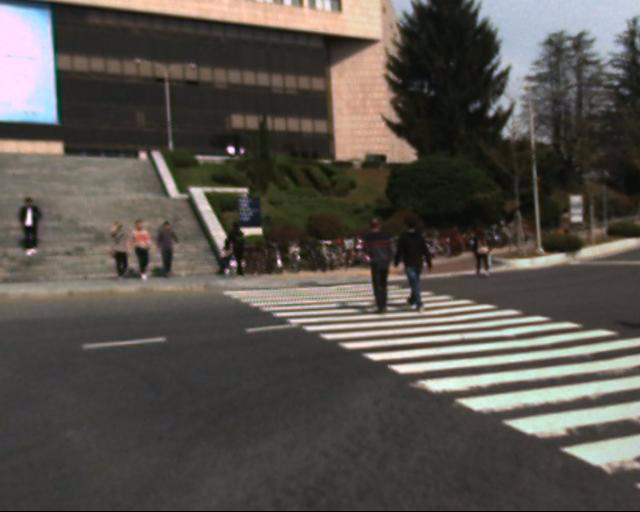person: (353, 212, 408, 316), (9, 189, 61, 263), (398, 214, 438, 309), (108, 214, 143, 289), (153, 215, 188, 284), (469, 220, 504, 284), (129, 216, 159, 283), (232, 215, 259, 278), (555, 205, 583, 262)
